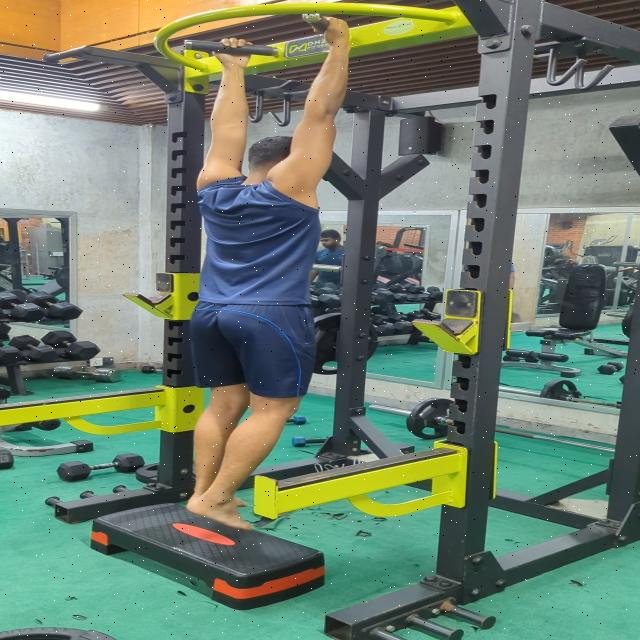Normal_PullUps: (170, 14, 368, 535)
